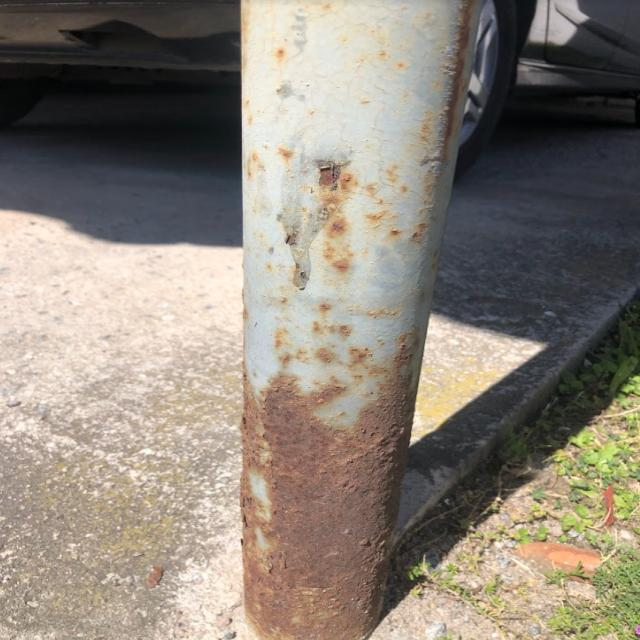Corrosion: (240, 320, 426, 640), (417, 0, 475, 166), (304, 163, 358, 275), (369, 210, 429, 244), (366, 177, 438, 202), (354, 303, 403, 321), (245, 153, 263, 185), (275, 147, 296, 164), (320, 297, 337, 317), (276, 46, 287, 60)
